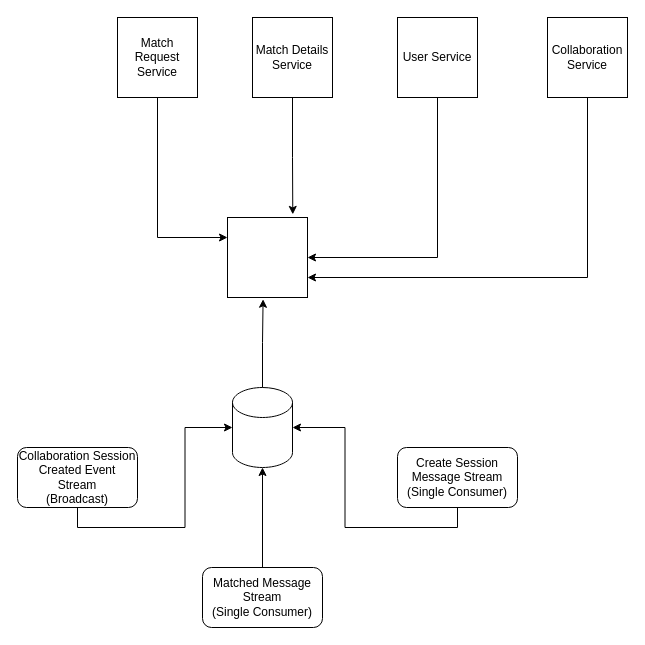
Image size: 645x645. Some labels were removed from this diagram. Each missing label, with the centre of its shape:
Matching Service (Orchestrator): [267,257]
Redis: [262,427]
